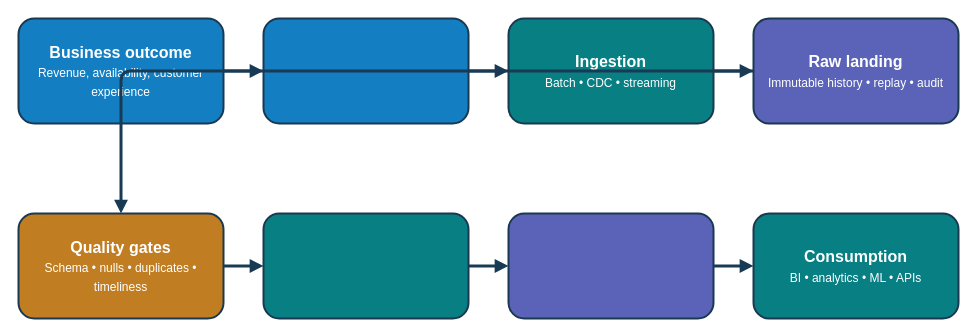
This 976x336 diagram has some shape labels left out. The box of each missing label's shape, as (x1, y1, x2, y2) in pixels:
Curated models Facts • dimensions • metrics: (507, 212, 714, 319)
Operational sources ERP • CRM • POS • APIs • events: (262, 17, 469, 124)
Transformation Clean • standardize • enrich • join: (262, 212, 469, 319)
